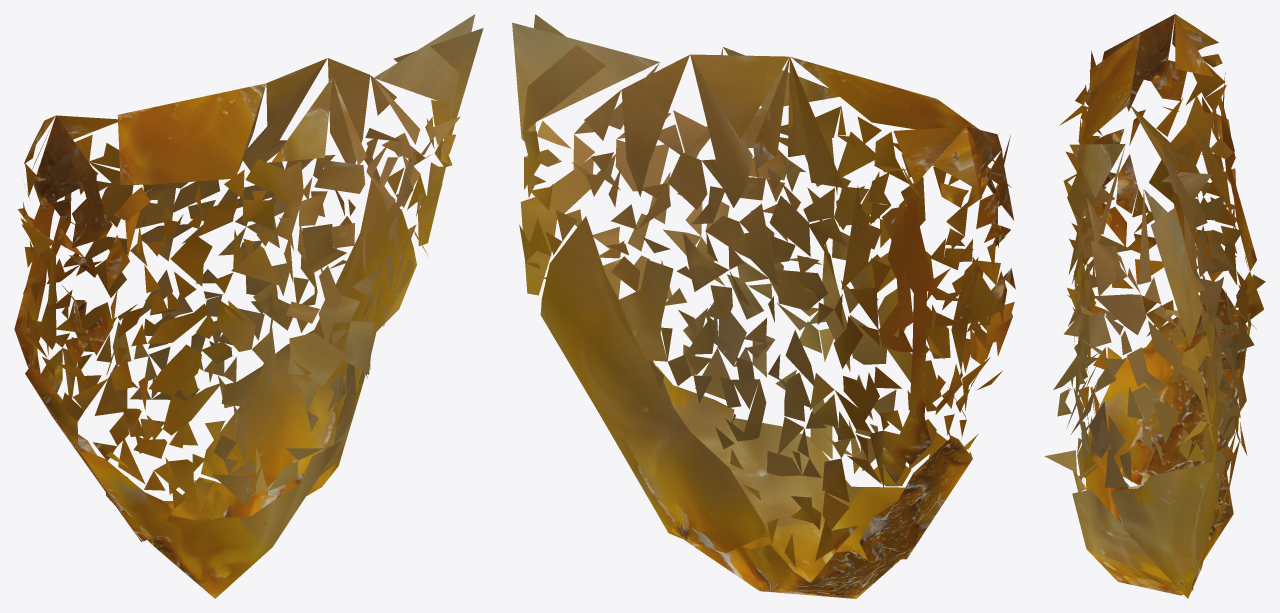
Rendered from lithic_core.glb.
The picture shows the model from 3 angles, left to right: view 1: azimuth 30°, elevation 25°; view 2: azimuth 150°, elevation 25°; view 3: azimuth 270°, elevation 25°; orthographic projection. The views are drawn at different scales.
Parts seen in each view (by area): view 1: Model_material0_0; view 2: Model_material0_0; view 3: Model_material0_0.
Part boxes in pixels (box(x1,y1,x2,y2)): Model_material0_0: box(14, 14, 483, 598); Model_material0_0: box(512, 14, 1015, 598); Model_material0_0: box(1044, 14, 1265, 598).
Bounding box in the file's own units: 0.1206 × 0.1264 × 0.0502.
1 material, 1 textured.
